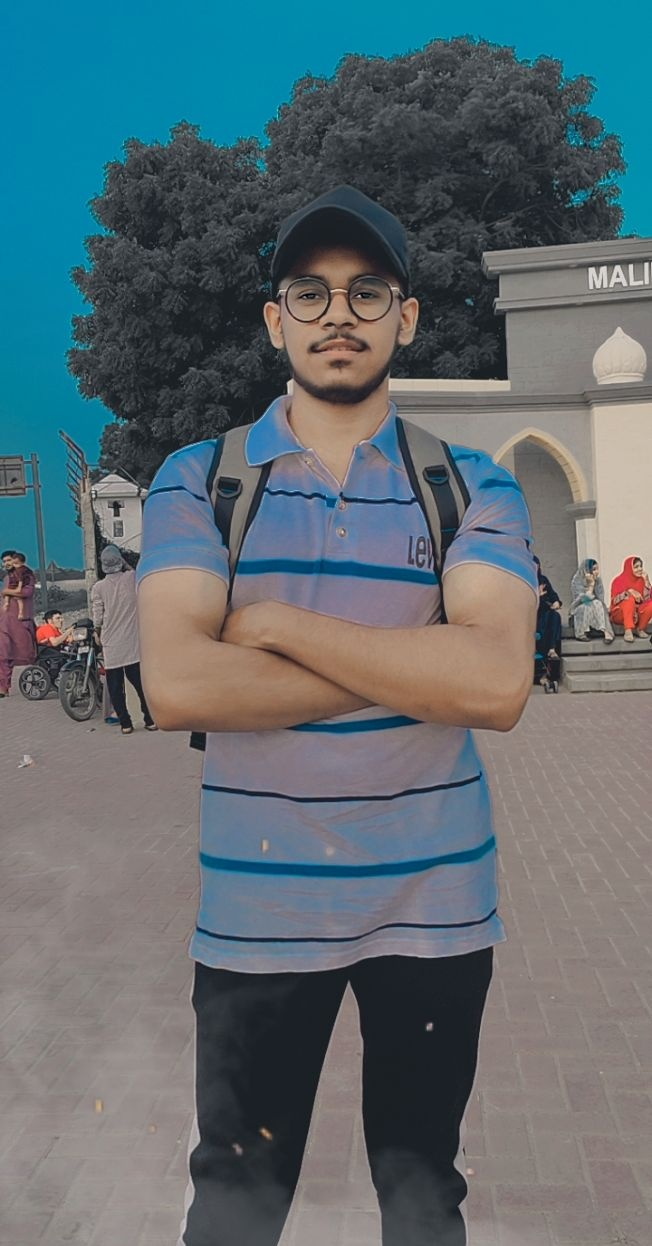NoMask: (276, 263, 397, 402)
